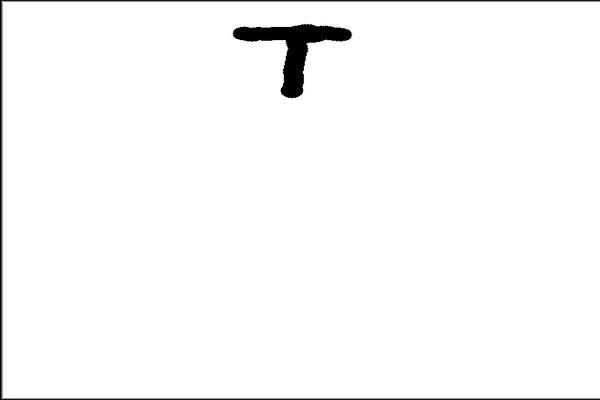T: (231, 14, 361, 99)
